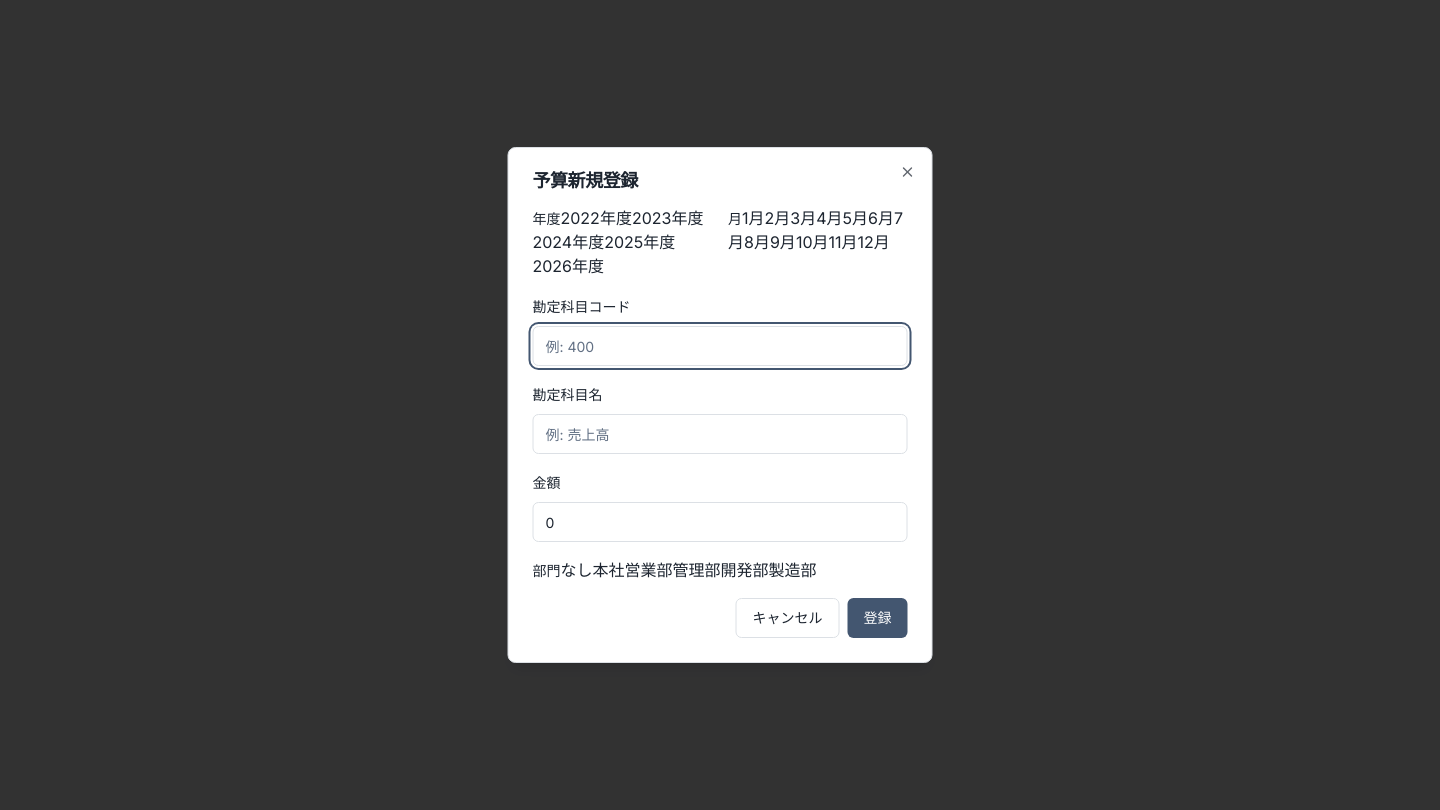
Test: BudgetForm — client-side validation › blocks submit and surfaces field errors for empty required fields
Click the button "登録" at [878, 618], box [848,598,908,638]
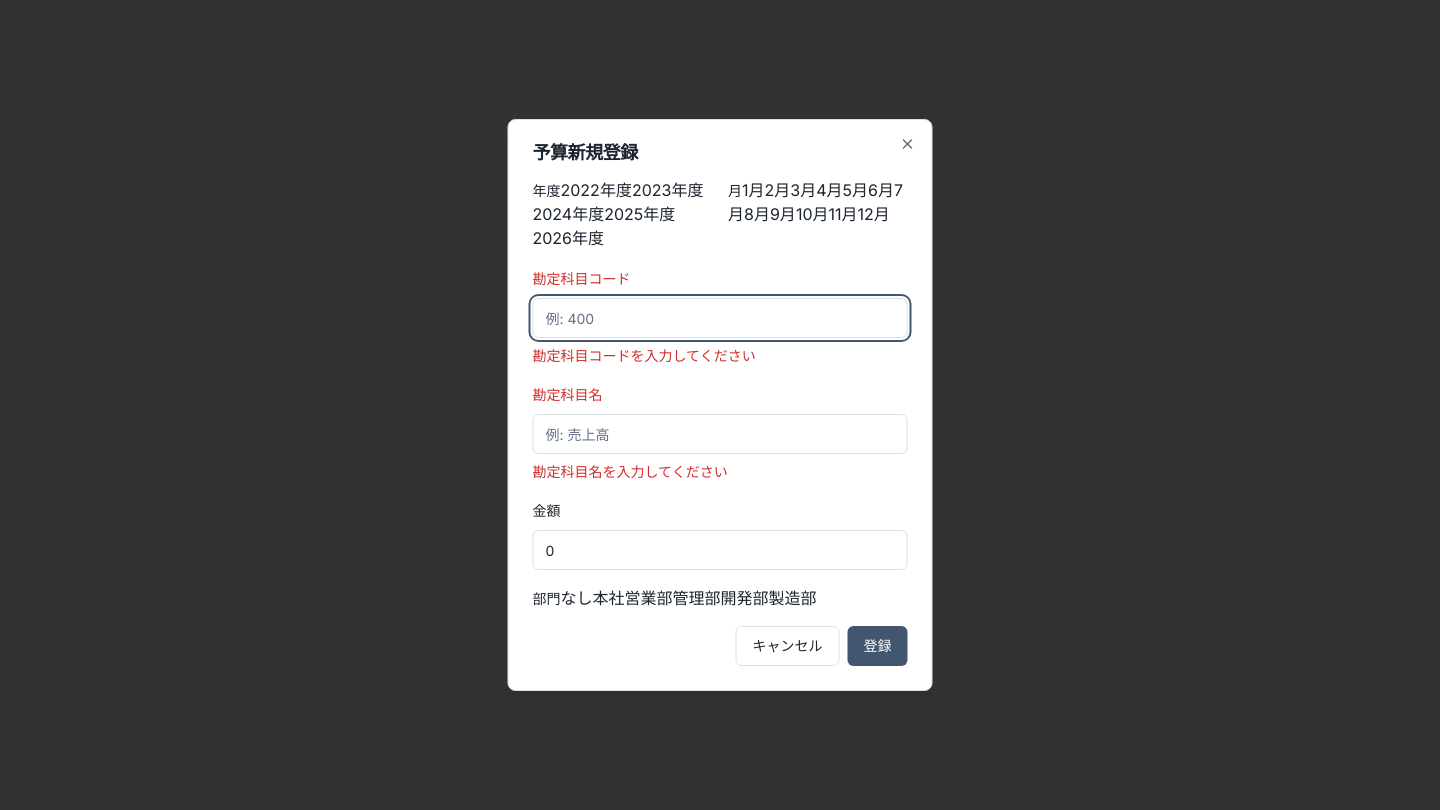
Expected: the text "勘定科目コードを入力してください" is shown, [532,347,756,364]
Expected: the text "勘定科目名を入力してください" is shown, [532,463,728,480]
